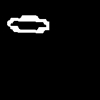chain: (7, 16, 48, 32)
